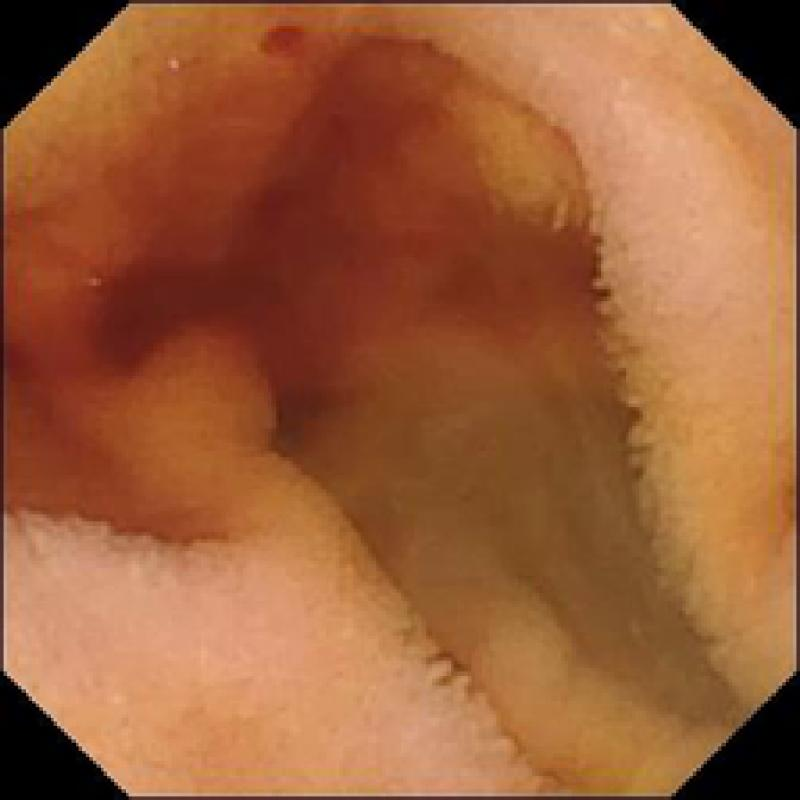bleeding: (93, 22, 446, 378)
